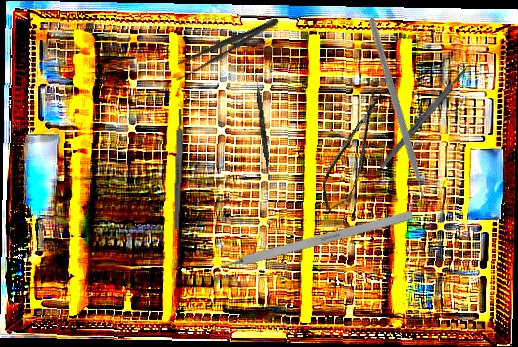Chopper: (292, 17, 495, 216)
Dressing Forceps: (169, 11, 283, 84)
Hook Surgical: (203, 210, 414, 276)
Micro Scissor: (312, 85, 396, 218)
Scalpel Handle: (378, 66, 469, 170), (172, 108, 185, 230)
Spatula Surgical: (251, 67, 274, 181)
